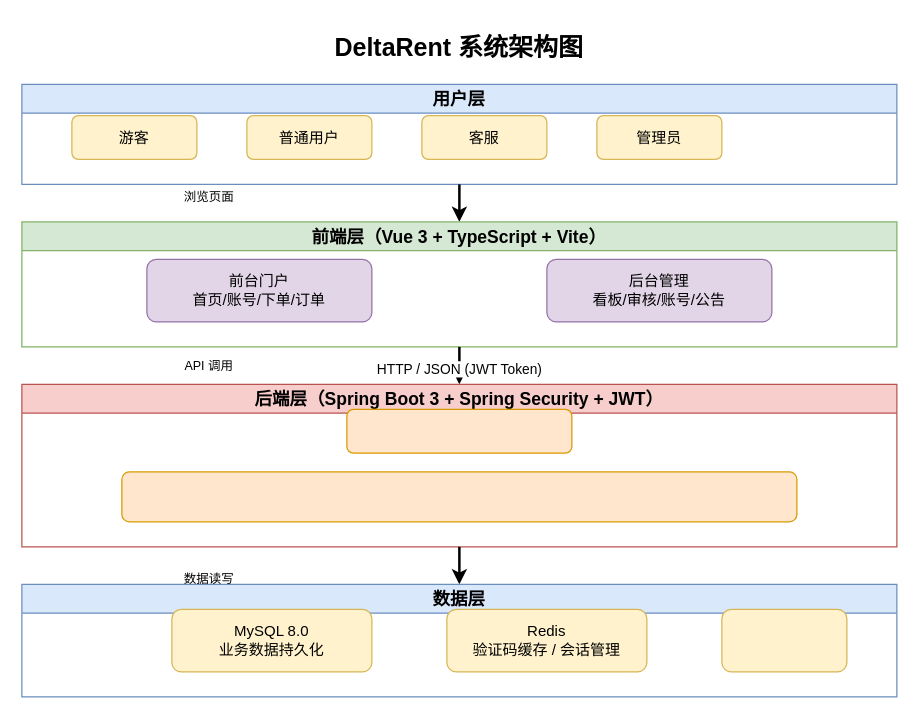
Some shapes in this 919 by 719 pixel diagram are drawn without their labels. Here are the shapes that lost their labels. From the top down, the centre of each, then its label:
pixel 459 430: API 网关层
pixel 459 496: 认证模块 | 用户模块 | 账号模块 | 订单模块 | 公告模块 | 申诉模块 | 统计模块 | 日志模块
pixel 784 640: 文件存储 图片 / 附件
